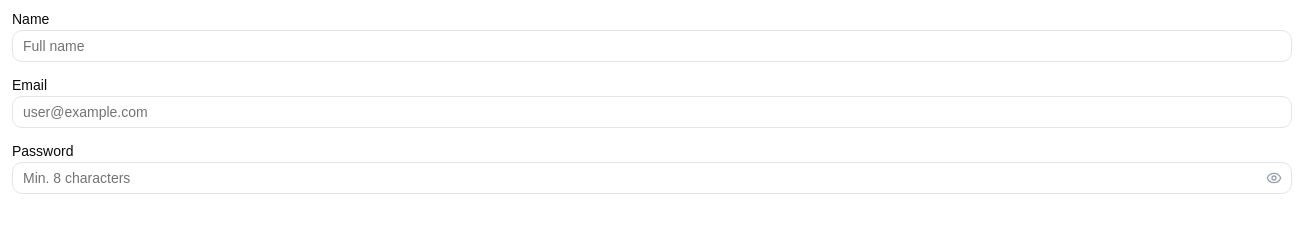
UserForm › password validation › clears the error once 8 or more characters are entered
Type "short" into the password field labelled "Password" at (652, 178), box x1=12 y1=162 x2=1292 y2=194
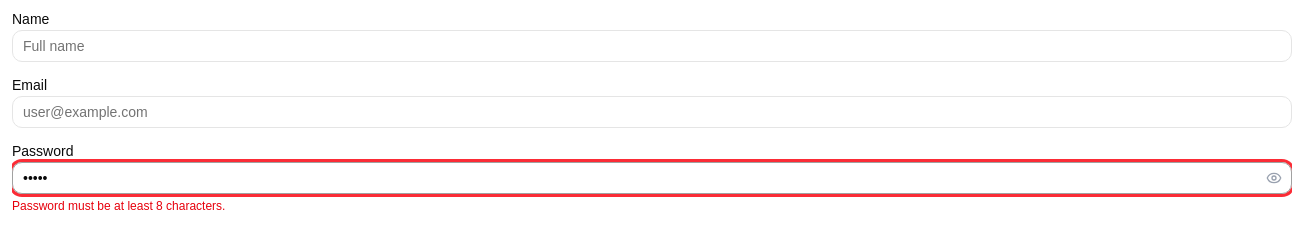
expect the text "Password must be at least 8 characters." is shown: met, box x1=12 y1=199 x2=225 y2=213
Type "enough!" into the password field labelled "Password" at (652, 178), box x1=12 y1=162 x2=1292 y2=194
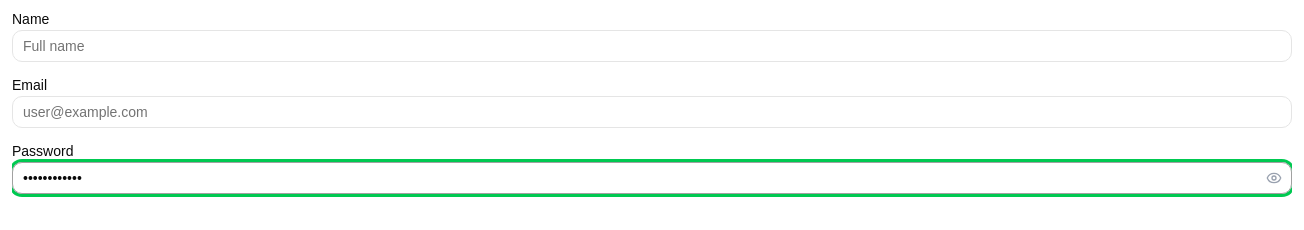
expect the text "at least 8 characters" is gone: met
